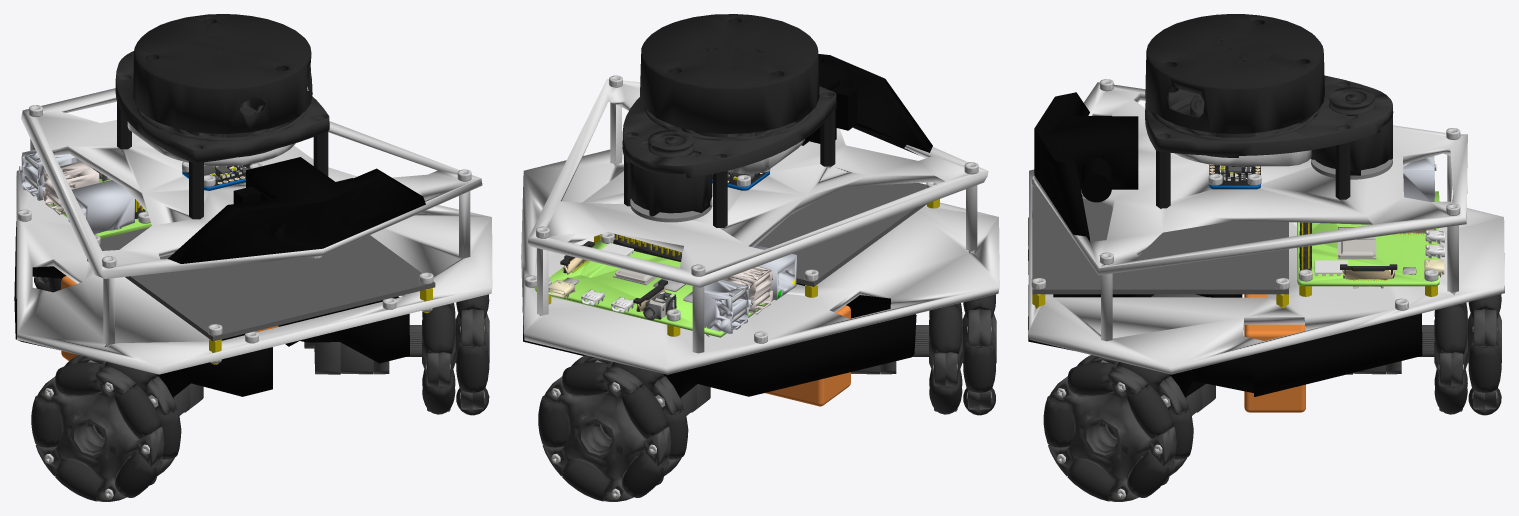
The model's file is eysip-robot.glb.
3 views of the same model, side by side, from view 1: azimuth 30°, elevation 25°; view 2: azimuth 150°, elevation 25°; view 3: azimuth 270°, elevation 25° (orthographic).
Parts seen in each view (by area): view 1: PCB Plate, Lidar Plate, Body1.200, Body1.213, Switch Holder 1, Chassis, Body1.018, Body1.198, Body1.186, Body1.101, Body1.107, Body1.114 (+20 smaller); view 2: PCB Plate, Lidar Plate, Body1.200, Chassis, Body1.198, Body1.016, Body1.213, Switch Holder 1, Body1.179, Body1.201, Body1.195, Body1.177 (+28 smaller); view 3: Lidar Plate, PCB Plate, Body1.200, Body1.213, Chassis, Switch Holder 1, Body1.198, Body1.020, Body1.179, Body1.177, Body1.201, Body1.111 (+25 smaller).
Part boxes in pixels (box(x1,y1,x2,y2)): PCB Plate: box(16, 158, 492, 374); Lidar Plate: box(21, 88, 482, 278); Body1.200: box(133, 14, 312, 134); Body1.213: box(99, 227, 435, 341); Switch Holder 1: box(168, 157, 425, 263); Chassis: box(14, 221, 409, 397); Body1.018: box(35, 369, 159, 501); Body1.198: box(115, 51, 329, 162); Body1.186: box(68, 180, 134, 234); Body1.101: box(115, 384, 161, 438); Body1.107: box(456, 341, 489, 392); Body1.114: box(422, 304, 455, 354); PCB Plate: box(521, 146, 999, 374); Lidar Plate: box(527, 79, 988, 287); Body1.200: box(640, 14, 819, 133); Chassis: box(522, 283, 916, 397); Body1.198: box(622, 86, 836, 178); Body1.016: box(542, 369, 666, 501); Body1.213: box(600, 183, 927, 286); Switch Holder 1: box(801, 54, 932, 154); Body1.179: box(535, 239, 773, 337); Body1.201: box(630, 138, 712, 216); Body1.195: box(704, 280, 751, 337); Body1.177: box(765, 305, 850, 406); Lidar Plate: box(1034, 82, 1467, 275); PCB Plate: box(1028, 169, 1504, 374); Body1.200: box(1145, 14, 1324, 133); Body1.213: box(1032, 185, 1288, 294); Chassis: box(1028, 217, 1422, 397); Switch Holder 1: box(1034, 92, 1138, 241); Body1.198: box(1145, 75, 1393, 157); Body1.020: box(1048, 369, 1171, 501); Body1.179: box(1297, 191, 1439, 286); Body1.177: box(1244, 294, 1305, 412); Body1.201: box(1310, 95, 1392, 175); Body1.111: box(1127, 384, 1173, 438).
Bounding box in the file's own units: 4.28 × 3.08 × 3.72.
